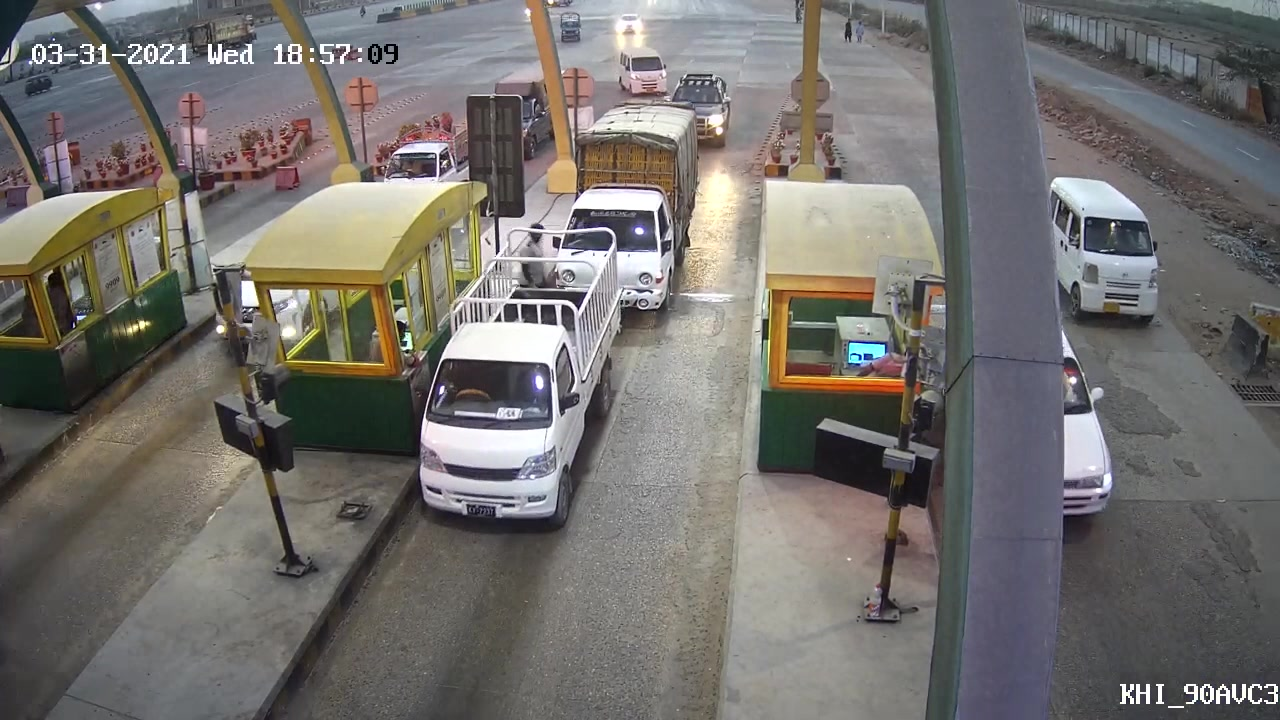F2: (415, 236, 619, 538)
